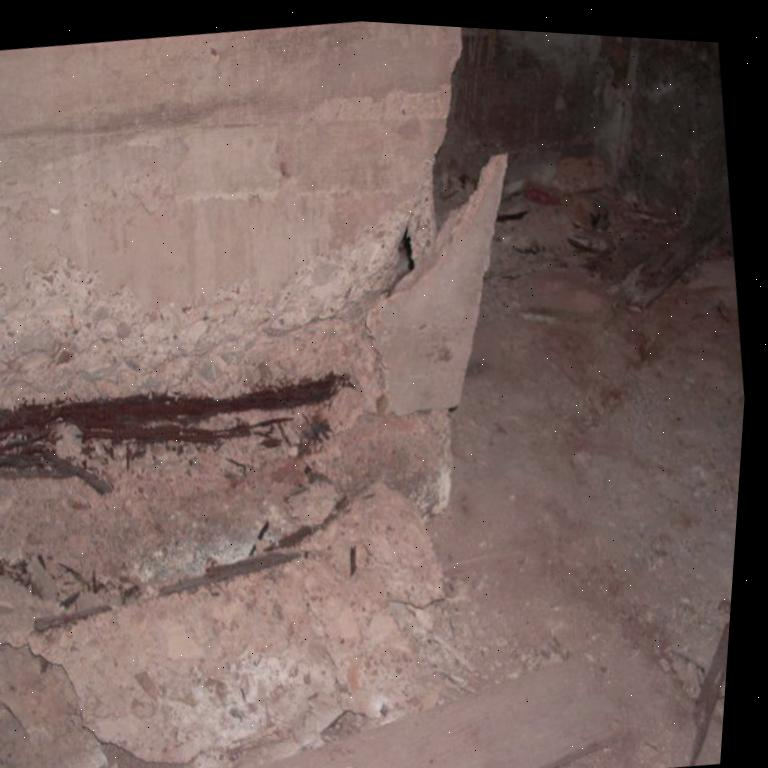exposed_rebar: (0, 373, 350, 493)
spalling: (0, 155, 487, 762)
